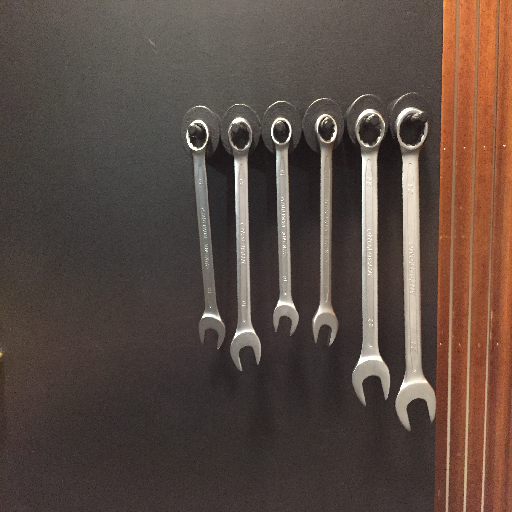bottom: (395, 379, 436, 432), (351, 353, 391, 406), (228, 329, 264, 373), (196, 311, 226, 352), (272, 296, 299, 338), (311, 305, 338, 347)
top: (393, 106, 431, 155), (353, 108, 386, 153), (226, 117, 254, 154), (184, 118, 212, 154), (313, 113, 339, 148), (269, 115, 294, 148)
